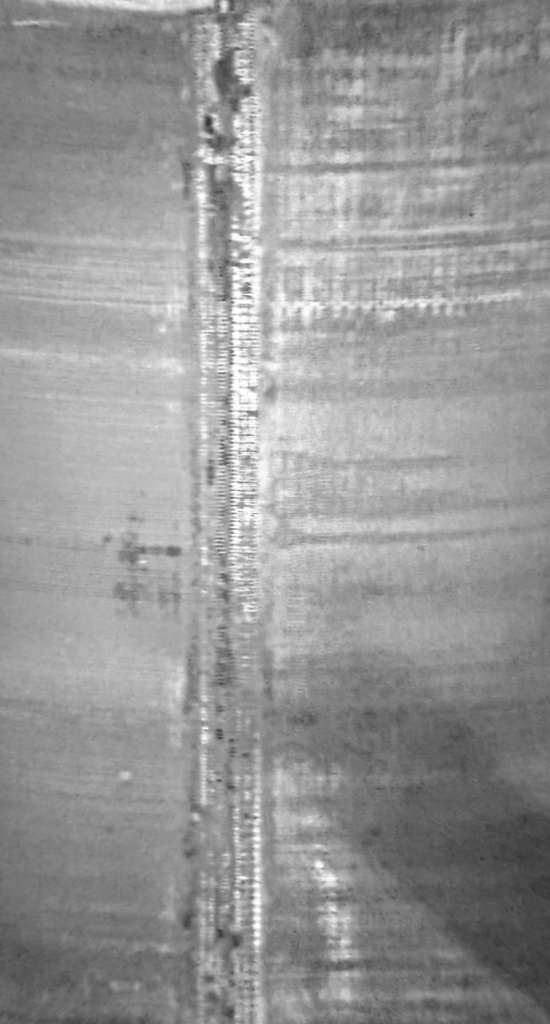splice: (187, 1, 267, 1024)
